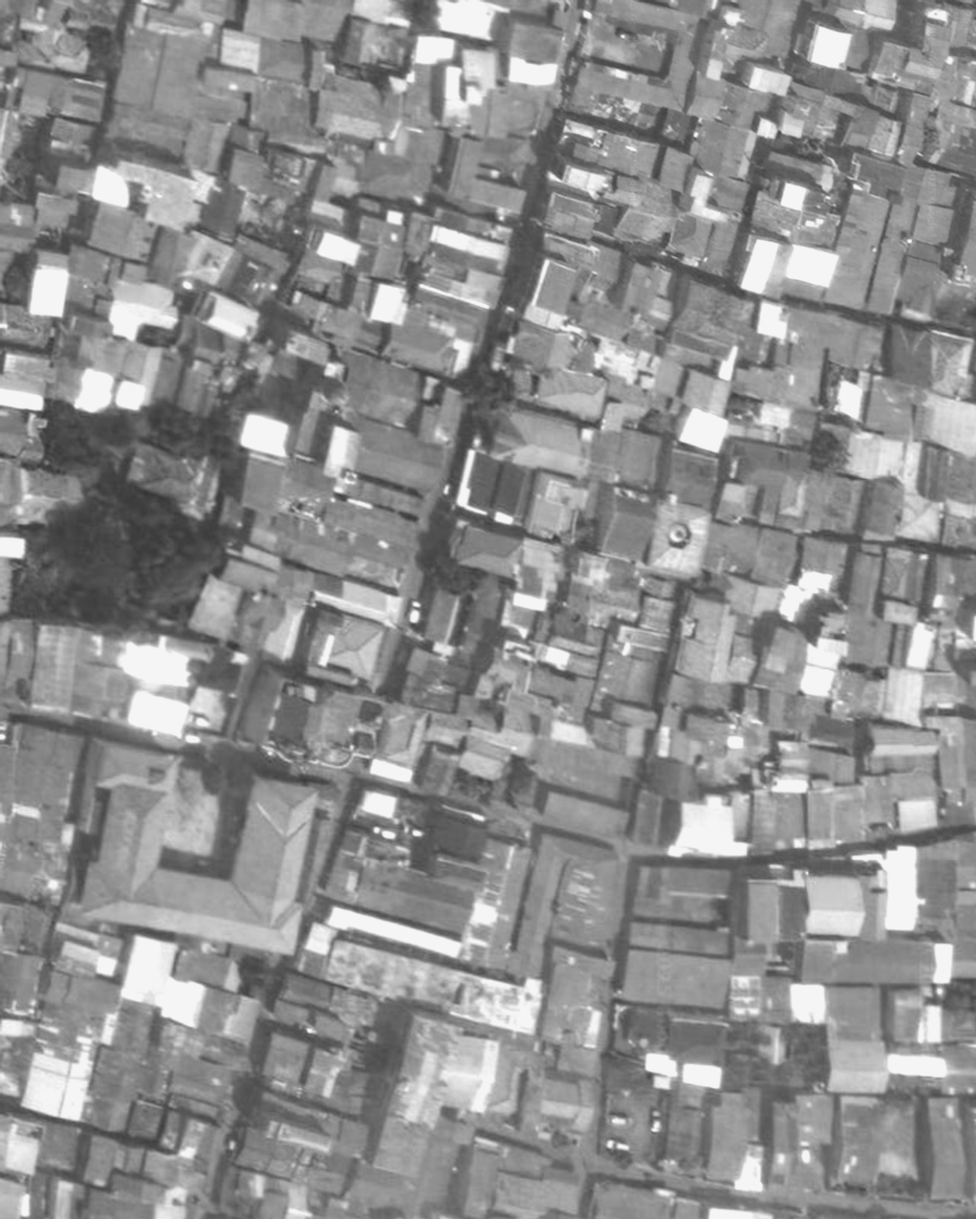building: (70, 738, 326, 952), (210, 436, 434, 609), (369, 1012, 505, 1189), (323, 935, 544, 1035), (517, 227, 681, 360), (731, 285, 881, 422), (505, 832, 628, 998), (16, 965, 131, 1133), (849, 149, 957, 319), (188, 536, 323, 670), (235, 661, 378, 783), (567, 0, 698, 131), (101, 18, 211, 166), (0, 719, 84, 907), (0, 621, 137, 733), (343, 279, 483, 382), (104, 1102, 227, 1219), (428, 40, 558, 148), (581, 617, 687, 747), (311, 408, 446, 510), (135, 1015, 255, 1125), (398, 204, 515, 314), (152, 943, 273, 1049), (484, 1041, 602, 1146), (275, 221, 378, 340), (83, 996, 171, 1134), (430, 119, 538, 222), (554, 116, 696, 194), (237, 1085, 368, 1169), (660, 166, 753, 282), (467, 392, 590, 479), (530, 946, 610, 1079), (455, 836, 533, 972), (351, 853, 475, 934), (124, 430, 232, 519), (198, 66, 320, 144), (317, 347, 425, 433), (435, 137, 537, 227), (655, 271, 751, 366), (715, 437, 811, 530), (836, 80, 935, 170), (619, 1010, 730, 1089), (355, 114, 444, 210), (664, 588, 749, 688), (819, 188, 887, 313), (323, 902, 465, 960), (876, 320, 976, 400), (98, 149, 195, 230), (143, 225, 241, 305), (97, 269, 186, 355), (764, 1091, 836, 1195), (73, 329, 163, 411), (294, 610, 386, 690), (0, 66, 105, 136), (82, 1048, 160, 1142), (0, 8, 95, 85), (615, 947, 729, 1011), (457, 700, 539, 788), (256, 1025, 349, 1101), (807, 421, 905, 493), (330, 206, 416, 285), (452, 449, 535, 530), (575, 417, 659, 496), (268, 972, 360, 1044), (0, 897, 52, 1024), (912, 831, 972, 939), (363, 698, 435, 788), (215, 140, 299, 216), (798, 943, 939, 988), (307, 77, 389, 154), (644, 494, 714, 583), (697, 1085, 758, 1186), (920, 1095, 976, 1203), (630, 862, 727, 924), (598, 174, 682, 245), (744, 786, 828, 857), (793, 469, 867, 548), (80, 194, 160, 267), (229, 1121, 316, 1188), (688, 73, 776, 139), (236, 0, 352, 50), (7, 463, 86, 536), (832, 1094, 891, 1191), (535, 784, 632, 843), (660, 794, 748, 859), (498, 314, 577, 386), (526, 471, 596, 551), (677, 116, 756, 186), (335, 1160, 427, 1219), (728, 975, 823, 1032), (797, 776, 870, 849), (646, 443, 722, 513), (592, 489, 659, 567), (906, 387, 976, 461), (189, 285, 265, 353), (419, 800, 497, 866), (190, 175, 255, 254), (488, 1165, 583, 1219), (499, 20, 567, 95), (863, 772, 936, 839), (749, 615, 808, 696), (520, 660, 597, 721), (121, 932, 177, 1014), (446, 521, 525, 579), (534, 358, 609, 419), (636, 749, 711, 810), (878, 843, 928, 934), (775, 242, 839, 313), (849, 473, 905, 554), (509, 536, 567, 614), (524, 258, 583, 334), (120, 1093, 191, 1156), (451, 1137, 505, 1219), (607, 255, 673, 321), (802, 871, 867, 938), (412, 582, 470, 655), (696, 518, 758, 586), (729, 226, 791, 294), (841, 612, 902, 680), (619, 920, 728, 957), (730, 0, 801, 56), (175, 316, 243, 374), (116, 639, 193, 689), (625, 786, 684, 851), (746, 527, 802, 595), (113, 339, 164, 413), (916, 443, 976, 505), (595, 376, 654, 439), (825, 1040, 890, 1096), (72, 1131, 129, 1193), (30, 241, 72, 324), (715, 573, 783, 624), (171, 355, 226, 418), (930, 715, 976, 790), (565, 582, 641, 627), (540, 187, 603, 241), (754, 688, 824, 736), (436, 0, 505, 48), (841, 544, 885, 618), (795, 20, 851, 78), (226, 255, 284, 311), (922, 553, 976, 613), (589, 1181, 674, 1219), (551, 151, 614, 202), (332, 14, 382, 78), (886, 325, 935, 390), (124, 689, 189, 738), (179, 115, 228, 179), (26, 1118, 82, 1174), (584, 713, 650, 760), (0, 1108, 43, 1180), (675, 366, 734, 418), (672, 404, 731, 455), (880, 984, 928, 1046), (823, 988, 881, 1039), (303, 1147, 358, 1200), (876, 546, 926, 604), (677, 702, 736, 751), (818, 0, 897, 36), (235, 410, 293, 459), (880, 666, 927, 726), (866, 718, 939, 756), (59, 270, 115, 318), (54, 938, 119, 979), (739, 880, 778, 948), (0, 302, 55, 350), (0, 405, 44, 464), (411, 744, 457, 800), (896, 491, 945, 543), (43, 116, 95, 163), (146, 349, 186, 409), (0, 1032, 33, 1102), (310, 154, 360, 200), (951, 193, 976, 285), (420, 707, 468, 753), (193, 652, 243, 696), (865, 36, 909, 86), (923, 4, 967, 54), (123, 1097, 169, 1144), (932, 937, 976, 985), (0, 346, 54, 385), (645, 354, 688, 400), (156, 633, 217, 664), (0, 373, 47, 413), (926, 1007, 975, 1045), (0, 202, 37, 252), (902, 620, 938, 671), (801, 538, 849, 576), (751, 298, 793, 341), (636, 594, 675, 638), (53, 917, 105, 950), (743, 63, 791, 98), (34, 191, 77, 230), (923, 670, 965, 709), (937, 507, 976, 549), (901, 46, 946, 82), (299, 918, 338, 959), (52, 162, 95, 197), (45, 1178, 80, 1219), (945, 4, 976, 46), (0, 1177, 28, 1219), (878, 598, 920, 626), (77, 1131, 104, 1164), (90, 1177, 102, 1187)
tree: (0, 454, 165, 648), (118, 509, 227, 625), (94, 400, 240, 452), (35, 392, 103, 472), (720, 1011, 781, 1088), (417, 548, 488, 600), (459, 364, 518, 423), (592, 1053, 656, 1101), (200, 751, 255, 806), (784, 1026, 826, 1087), (498, 754, 546, 803), (253, 300, 298, 346), (808, 434, 851, 476), (0, 256, 35, 307), (451, 771, 494, 807), (64, 197, 96, 241), (639, 410, 674, 444), (816, 366, 840, 408), (720, 391, 752, 420), (947, 983, 974, 1013), (770, 938, 797, 966), (932, 309, 963, 333), (787, 132, 812, 158), (832, 412, 858, 431), (612, 1152, 633, 1171), (549, 1132, 568, 1149), (924, 130, 940, 145)
